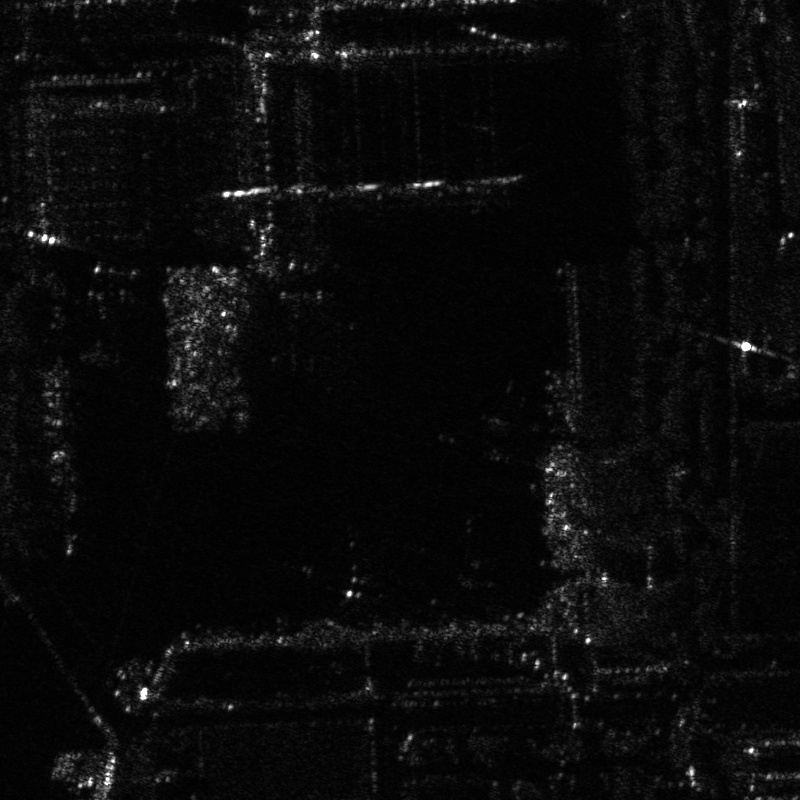Boeing737: (238, 256, 357, 374), (45, 263, 160, 369)
